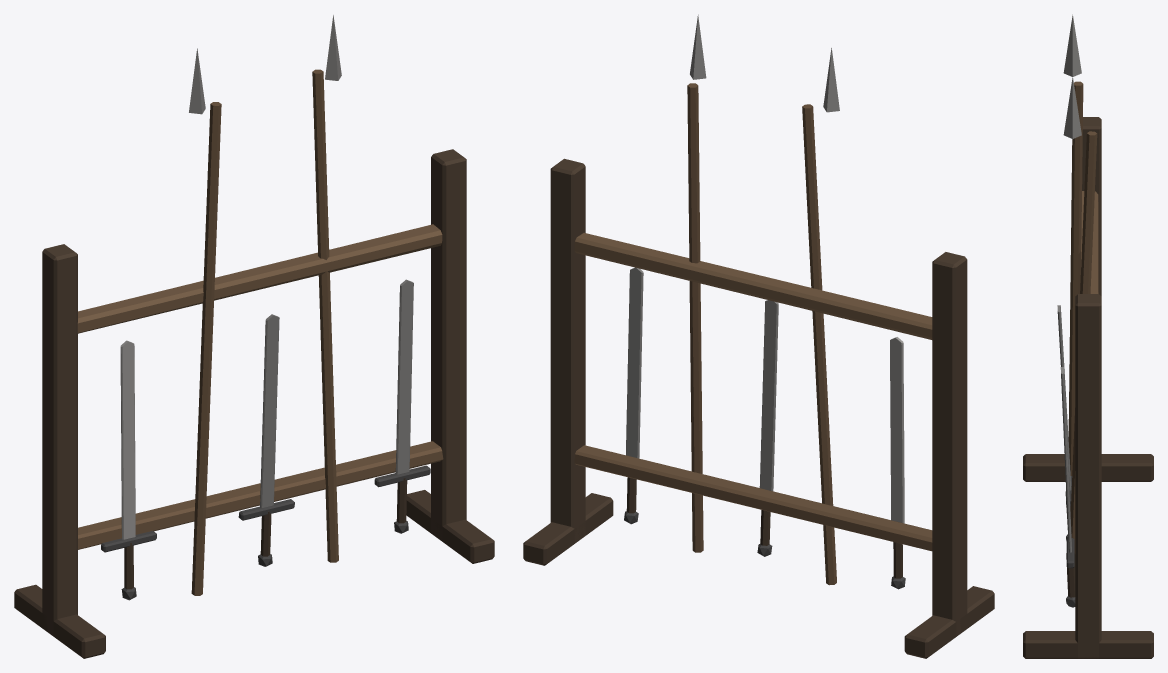
Rendered from weapon_rack.glb.
The picture shows the model from 3 angles, left to right: view 1: azimuth 30°, elevation 25°; view 2: azimuth 150°, elevation 25°; view 3: azimuth 270°, elevation 25°; orthographic projection. The views are drawn at different scales.
Parts seen in each view (by area): view 1: weapon_rack; view 2: weapon_rack; view 3: weapon_rack.
Boxes of the visible parts, x1,y1,x2,y2 form: weapon_rack: [14, 15, 494, 658]; weapon_rack: [523, 14, 994, 658]; weapon_rack: [1023, 14, 1153, 658].
Size of what is drawn, in the model's own units: 1.7 by 2.2 by 0.5.
